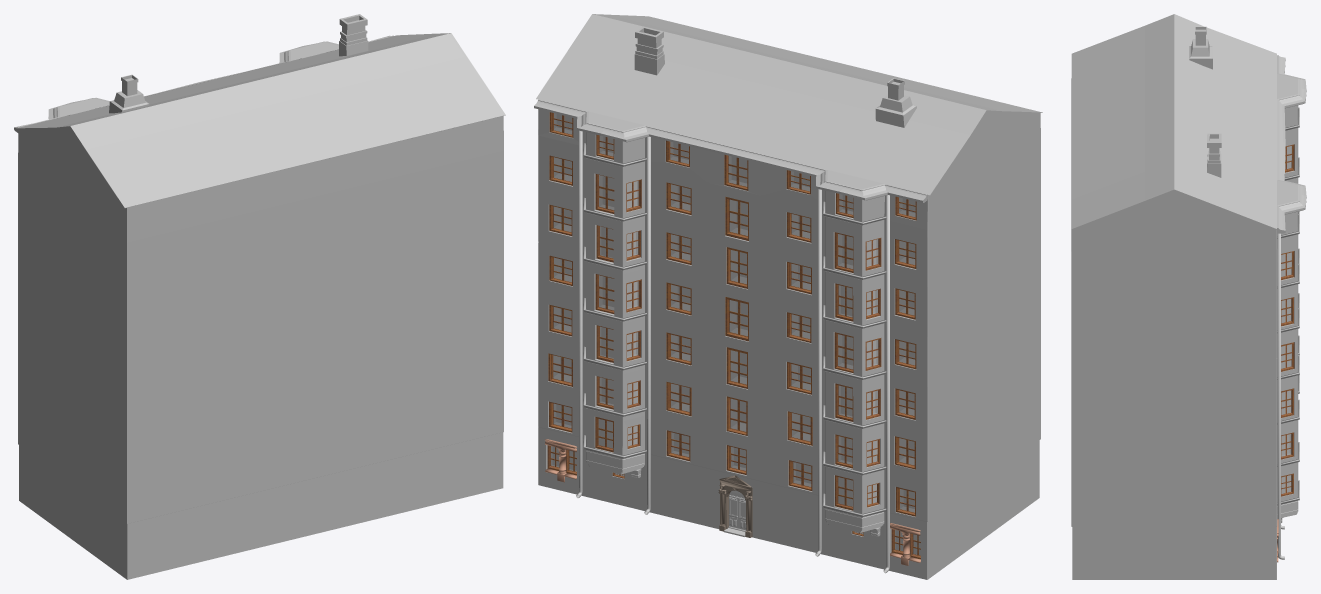
The model's file is Apartment4_Hi.fbx.
3 views of the same model, side by side, from view 1: azimuth 30°, elevation 25°; view 2: azimuth 150°, elevation 25°; view 3: azimuth 270°, elevation 25° (orthographic). The views are drawn at different scales.
Parts seen in each view (by area): view 1: Apartment4, FullHouse.147, Apartment4.008, Apartment4.005, Apartment4.007, Apartment4.004, Apartment4.009, Apartment4.006, Apartment4.003, 5th_L_C.013; view 2: Apartment4, FullHouse.147, Apartment4.008, Cylinder, Apartment4.005, Apartment4.007, 5th_L_C.013, Apartment4.004, Apartment4.009, Apartment4.002, Apartment4.003, Apartment4.006 (+30 smaller); view 3: Apartment4, FullHouse.147, Apartment4.003, 5th_L_C.013, Cylinder, FullHouse.277, FullHouse.382, FullHouse.281, FullHouse.379, FullHouse.282.
Part boxes in pixels (x1,y1,x2,y2): Apartment4: [18, 49, 503, 523]; FullHouse.147: [14, 33, 505, 208]; Apartment4.008: [19, 445, 168, 579]; Apartment4.005: [338, 457, 399, 528]; Apartment4.007: [225, 485, 286, 555]; Apartment4.004: [400, 443, 457, 513]; Apartment4.009: [169, 500, 225, 569]; Apartment4.006: [286, 472, 338, 540]; Apartment4.003: [457, 432, 503, 499]; 5th_L_C.013: [109, 14, 368, 113]; Apartment4: [538, 99, 1040, 521]; FullHouse.147: [534, 14, 1042, 202]; Apartment4.008: [884, 440, 1039, 579]; Cylinder: [576, 130, 889, 573]; Apartment4.005: [645, 453, 708, 526]; Apartment4.007: [762, 482, 825, 555]; 5th_L_C.013: [634, 26, 916, 127]; Apartment4.004: [586, 453, 645, 510]; Apartment4.009: [826, 521, 884, 569]; Apartment4.002: [586, 451, 884, 536]; Apartment4.003: [538, 427, 586, 496]; Apartment4.006: [708, 469, 761, 539]; Apartment4: [1071, 78, 1299, 527]; FullHouse.147: [1071, 14, 1306, 233]; Apartment4.003: [1072, 527, 1276, 579]; 5th_L_C.013: [1189, 26, 1221, 177]; Cylinder: [1277, 233, 1284, 559]; FullHouse.277: [1281, 342, 1294, 371]; FullHouse.382: [1281, 251, 1294, 280]; FullHouse.281: [1281, 388, 1293, 417]; FullHouse.379: [1281, 297, 1293, 326]; FullHouse.282: [1281, 432, 1293, 459].
Size of the model in its own units: 28.35 by 30.91 by 16.06.
